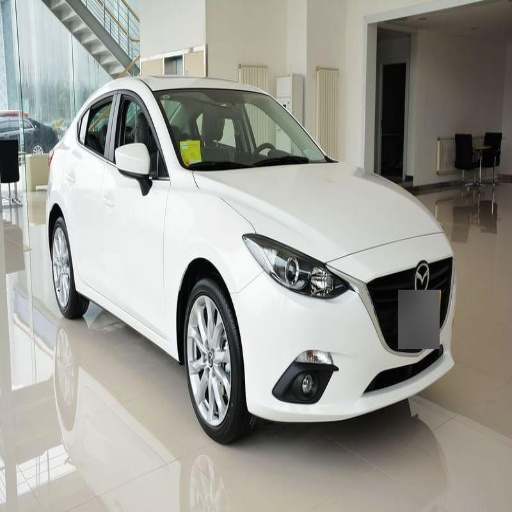back_left_light: (65, 89, 118, 291)
back_right_light: (234, 237, 455, 418)
front_bumper: (154, 89, 335, 170)
front_left_light: (101, 88, 170, 334)
front_right_door: (242, 232, 351, 298)
front_right_light: (193, 165, 440, 258)
trunk: (181, 279, 247, 443), (50, 215, 83, 318), (60, 367, 76, 422)
